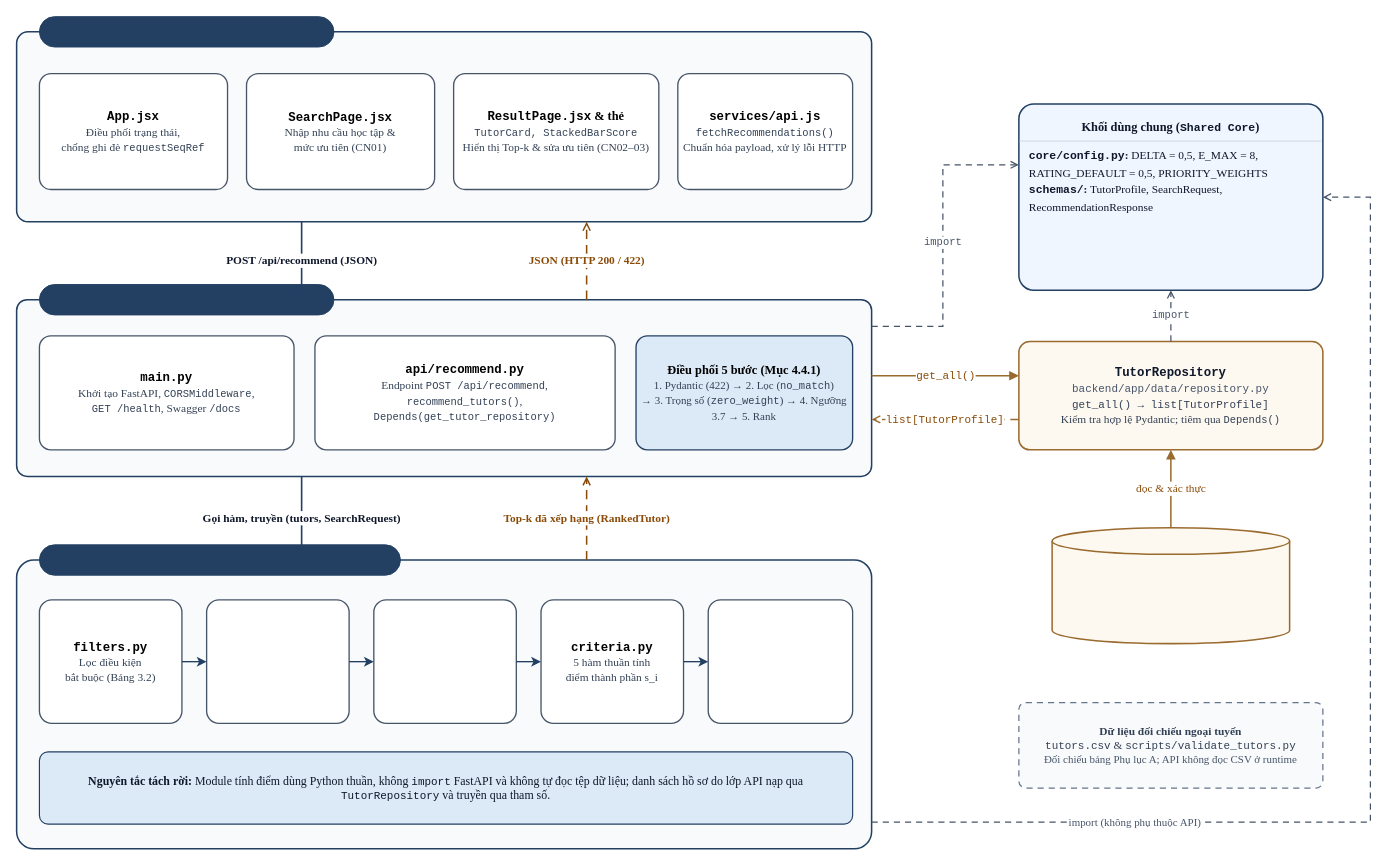
This 1396x866 diagram has some shape labels left out. The shapes that lost their labels are listed below. From the top down, each one's box as (x1, y1, x2, y2) in pixels, then its label:
(38, 16, 334, 47): Lớp giao diện — ReactJS ( frontend/src/ )
(38, 284, 334, 315): Lớp dịch vụ API — FastAPI ( backend/app/ )
(38, 544, 400, 575): Lớp nghiệp vụ — Module tính điểm ( backend/app/scoring/ )
(1051, 526, 1290, 644): data/processed/tutors.json 16 hồ sơ gia sư ẩn danh (nạp ở runtime khi gọi API)
(205, 599, 349, 724): weights.py Trọng số hiệu dụng, kiểm tra Σw_i = 0
(373, 599, 517, 724): eligibility.py Ngưỡng dữ liệu tối thiểu (Bảng 3.7)
(707, 599, 853, 724): ranker.py Tổng hợp S(g), xếp hạng, phá hòa, sinh lý do & ghi chú
